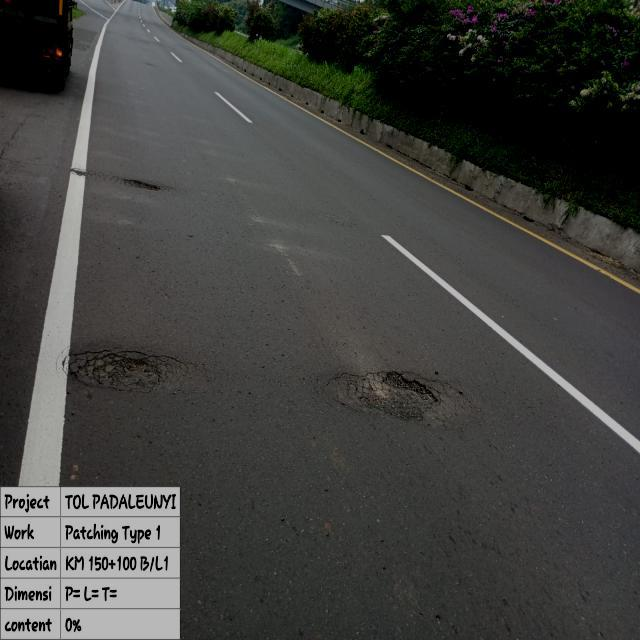Buraco: (324, 369, 476, 429), (66, 349, 166, 395), (120, 177, 164, 193)
